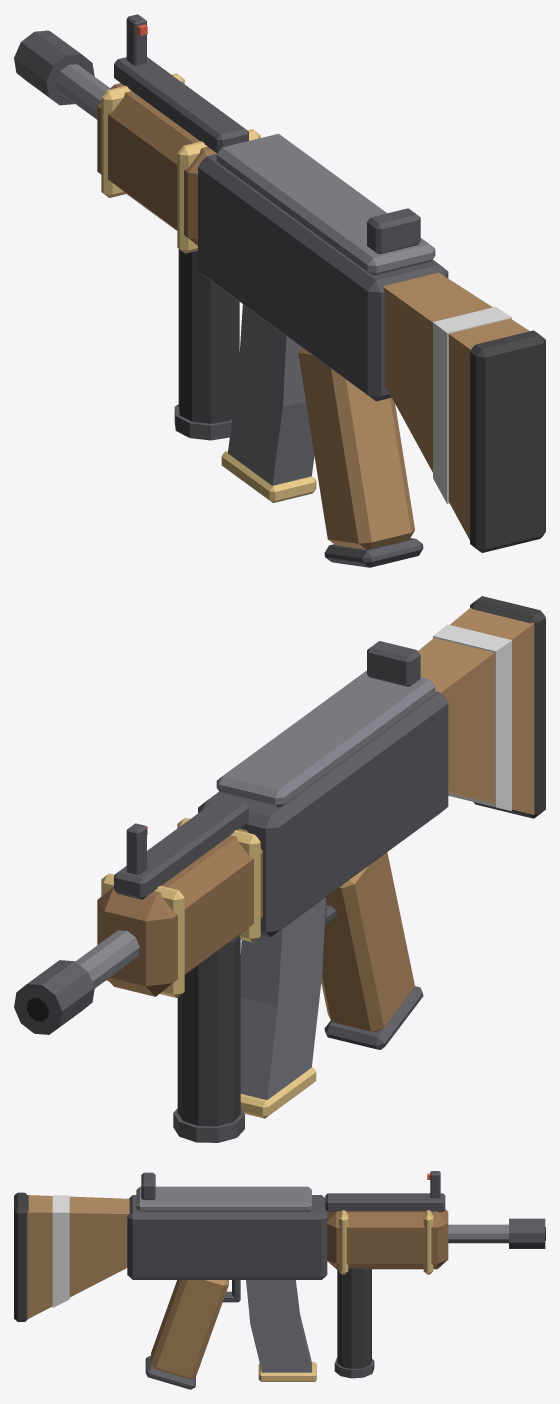
The model's file is Rifle.fbx.
3 views of the same model, one above another, from view 1: azimuth 30°, elevation 25°; view 2: azimuth 150°, elevation 25°; view 3: azimuth 270°, elevation 25° (orthographic). The views are drawn at different scales.
Visible parts, largest first — view 1: RifleMesh; view 2: RifleMesh; view 3: RifleMesh.
Boxes of the visible parts, x1,y1,x2,y2 form: RifleMesh: [14, 14, 545, 567]; RifleMesh: [14, 596, 545, 1142]; RifleMesh: [14, 1171, 545, 1389].
Bounding box in the file's own units: 0.086 × 0.3838 × 0.878.
Materials: 2 (1 with a texture image).
